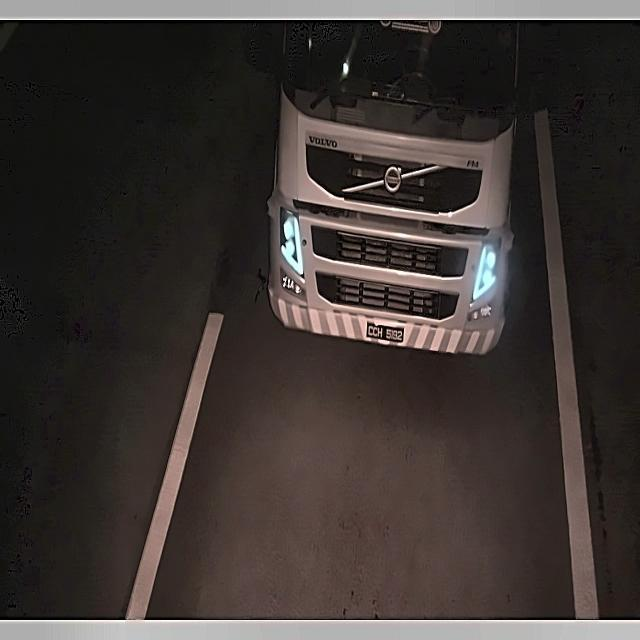car: (363, 312, 408, 351)
